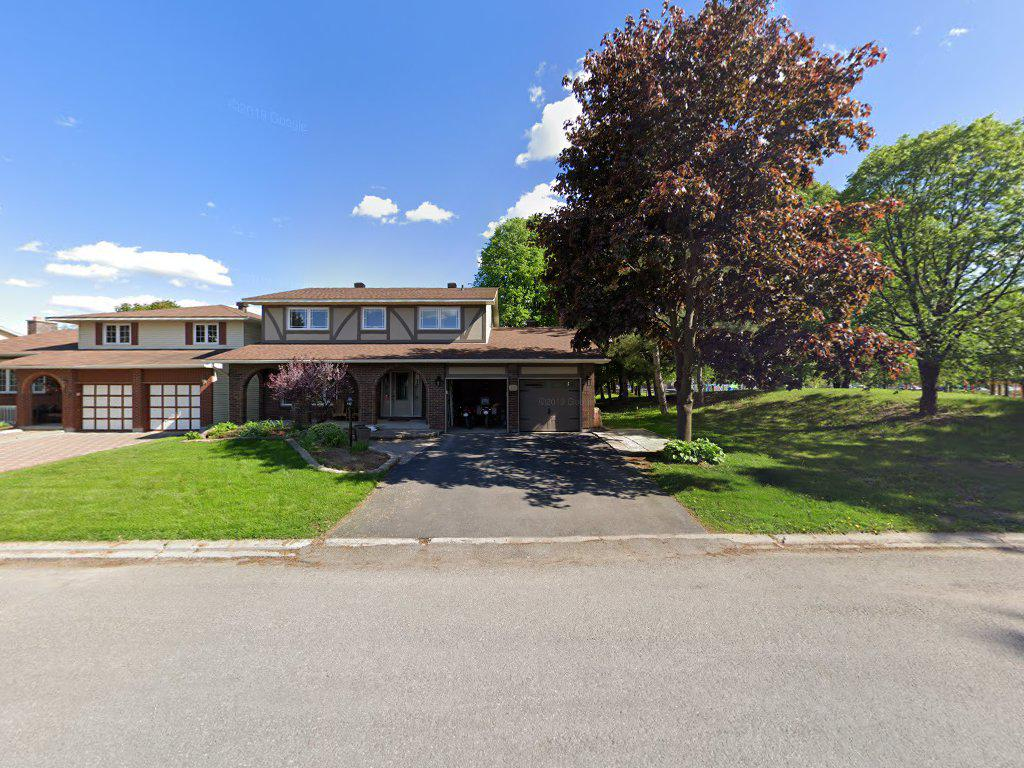trunk: (669, 310, 702, 457), (912, 316, 946, 417)
